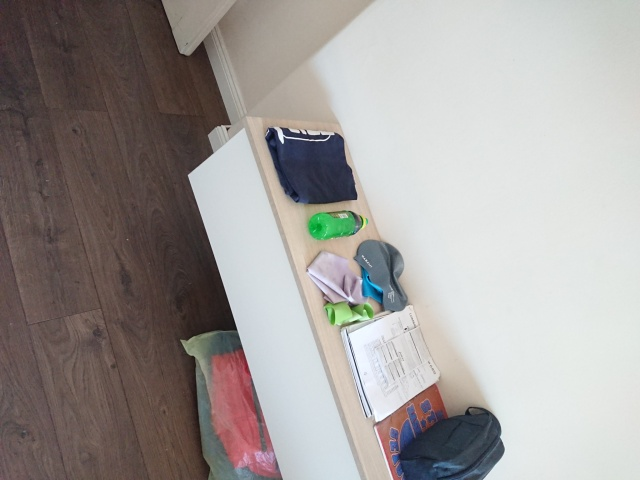Vindi Iso Sport Lemon-Grapefruit 500mL: (305, 209, 370, 242)
